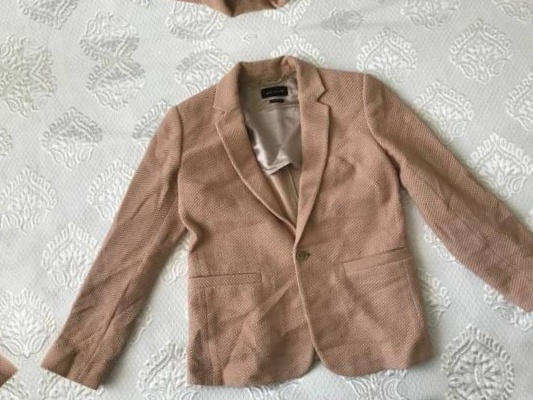Blazer: (1, 11, 533, 400), (0, 0, 512, 60), (64, 383, 533, 400), (0, 103, 21, 400)
